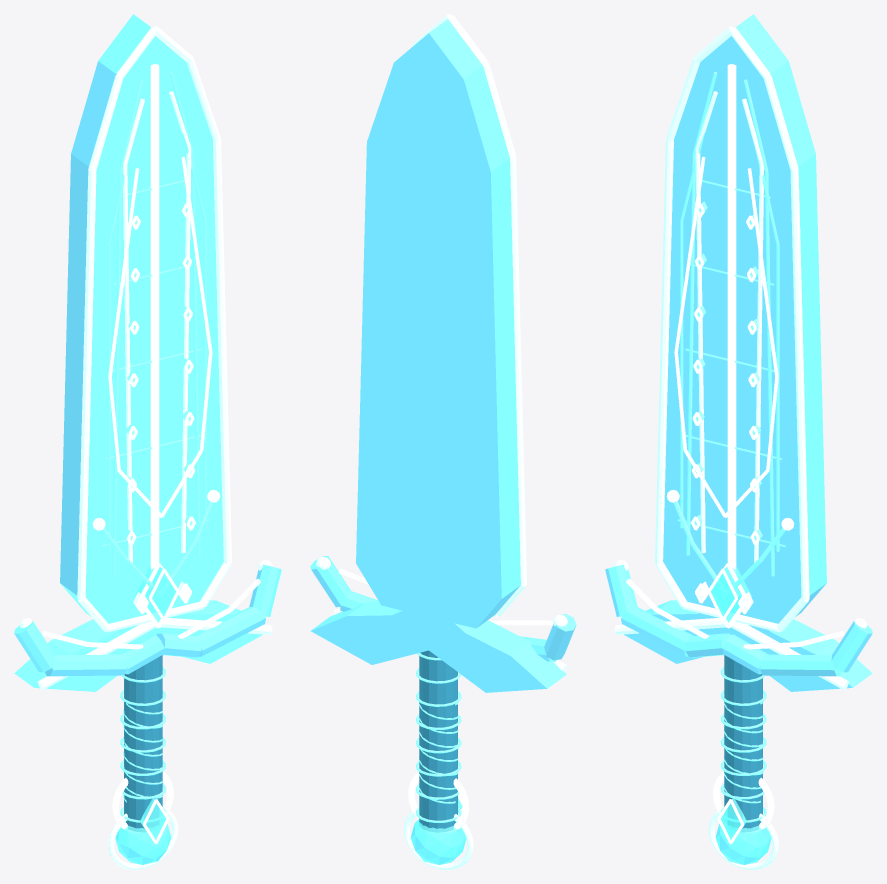
File: bildmaster_greatsword_hologram_v2.glb
3 views of the same model, side by side, from view 1: azimuth 30°, elevation 25°; view 2: azimuth 150°, elevation 25°; view 3: azimuth 330°, elevation 25° (orthographic).
Visible parts, largest first — view 1: greatsword_metal, greatsword_light, greatsword_white, greatsword_aqua, greatsword_core, greatsword_glass; view 2: greatsword_metal, greatsword_light, greatsword_core, greatsword_aqua, greatsword_glass, greatsword_white; view 3: greatsword_metal, greatsword_light, greatsword_white, greatsword_aqua, greatsword_core, greatsword_glass.
Boxes of the visible parts, left/top/right/bottom form: greatsword_metal: left=14, top=14, right=281, bottom=691; greatsword_light: left=20, top=26, right=272, bottom=869; greatsword_white: left=42, top=64, right=260, bottom=844; greatsword_aqua: left=101, top=72, right=213, bottom=822; greatsword_core: left=124, top=655, right=162, bottom=831; greatsword_glass: left=115, top=566, right=175, bottom=864; greatsword_metal: left=310, top=19, right=576, bottom=692; greatsword_light: left=316, top=14, right=567, bottom=869; greatsword_core: left=419, top=650, right=457, bottom=831; greatsword_aqua: left=416, top=653, right=461, bottom=822; greatsword_glass: left=410, top=797, right=466, bottom=864; greatsword_white: left=339, top=568, right=553, bottom=832; greatsword_metal: left=605, top=14, right=872, bottom=691; greatsword_light: left=614, top=26, right=866, bottom=869; greatsword_white: left=626, top=64, right=844, bottom=844; greatsword_aqua: left=673, top=72, right=785, bottom=822; greatsword_core: left=724, top=655, right=762, bottom=831; greatsword_glass: left=711, top=566, right=771, bottom=864.
Size of the model in its own units: 0.618 by 1.9 by 0.1473.
